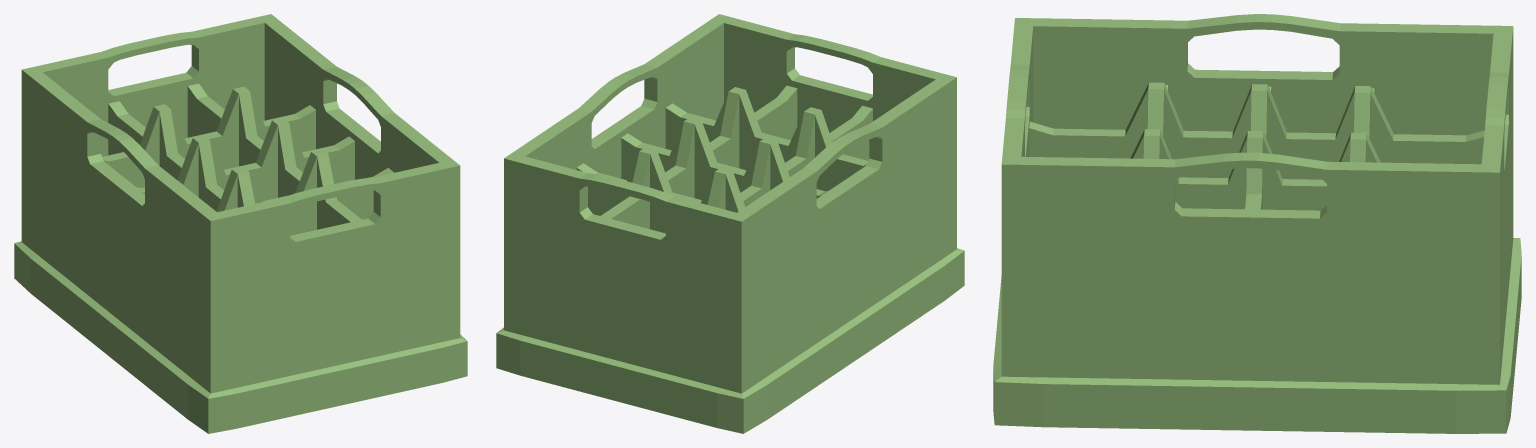
The model's file is beer_box_empty.glb.
The picture shows the model from 3 angles, left to right: view 1: azimuth 30°, elevation 25°; view 2: azimuth 150°, elevation 25°; view 3: azimuth 270°, elevation 25°; orthographic projection. The views are drawn at different scales.
Parts seen in each view (by area): view 1: BeerBoxEmpty; view 2: BeerBoxEmpty; view 3: BeerBoxEmpty.
Boxes of the visible parts, box(x1,y1,x2,y2) form: BeerBoxEmpty: box(14, 14, 467, 433); BeerBoxEmpty: box(496, 14, 964, 433); BeerBoxEmpty: box(993, 14, 1521, 433).
Bounding box in the file's own units: 0.4102 × 0.3182 × 0.5677.
